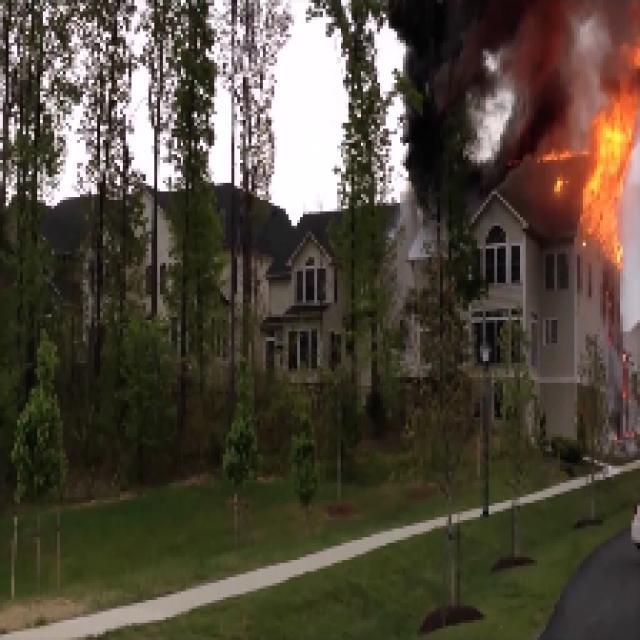Fire: (595, 100, 627, 249)
Smoke: (397, 0, 580, 180)
